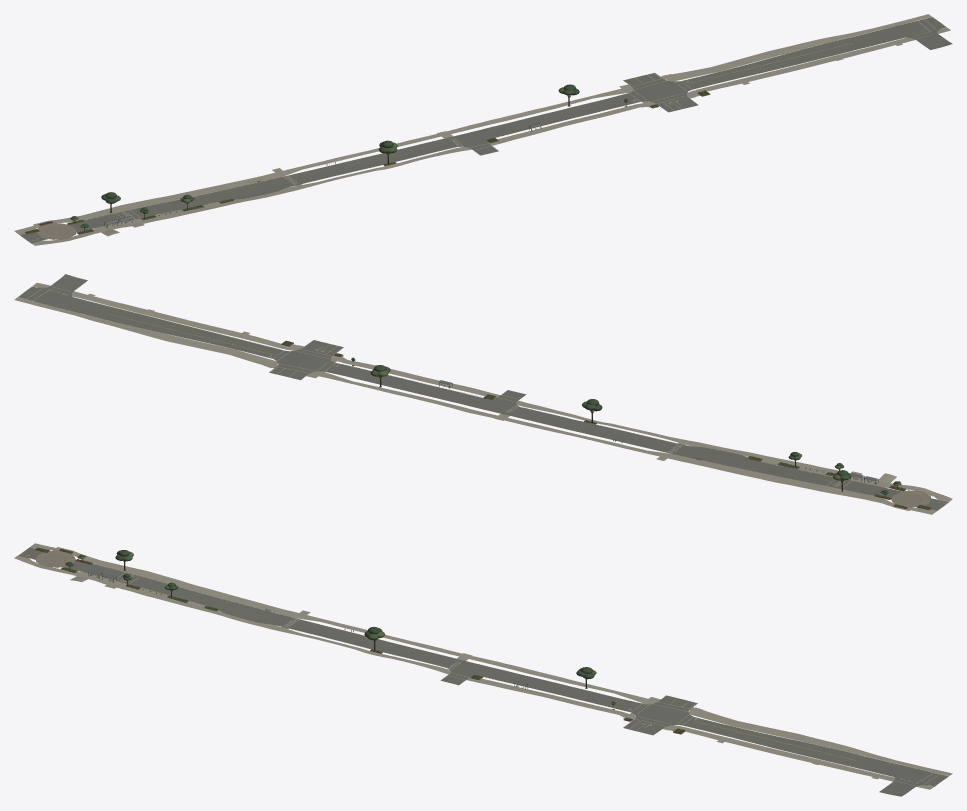
The model's file is site.glb.
3 renders of one model, top to bottom at view 1: azimuth 30°, elevation 25°; view 2: azimuth 150°, elevation 25°; view 3: azimuth 330°, elevation 25°, orthographic.
Visible parts, largest first — view 1: east-thirteenth-east-paving, east-thirteenth-east-planting, east-thirteenth-east-markings, east-thirteenth-east-furnishings; view 2: east-thirteenth-east-paving, east-thirteenth-east-planting, east-thirteenth-east-markings, east-thirteenth-east-furnishings; view 3: east-thirteenth-east-paving, east-thirteenth-east-planting, east-thirteenth-east-markings, east-thirteenth-east-furnishings.
Part boxes in pixels (x1,y1,x2,y2): east-thirteenth-east-paving: [14, 14, 952, 245]; east-thirteenth-east-planting: [26, 84, 709, 233]; east-thirteenth-east-markings: [29, 19, 936, 241]; east-thirteenth-east-furnishings: [25, 91, 710, 239]; east-thirteenth-east-paving: [14, 274, 952, 514]; east-thirteenth-east-planting: [282, 340, 930, 508]; east-thirteenth-east-markings: [27, 287, 944, 507]; east-thirteenth-east-furnishings: [281, 341, 931, 510]; east-thirteenth-east-paving: [14, 543, 952, 796]; east-thirteenth-east-planting: [36, 547, 684, 733]; east-thirteenth-east-markings: [22, 550, 938, 784]; east-thirteenth-east-furnishings: [35, 547, 685, 734].
Size of the model in its own units: 492 by 13.94 by 44.2.
